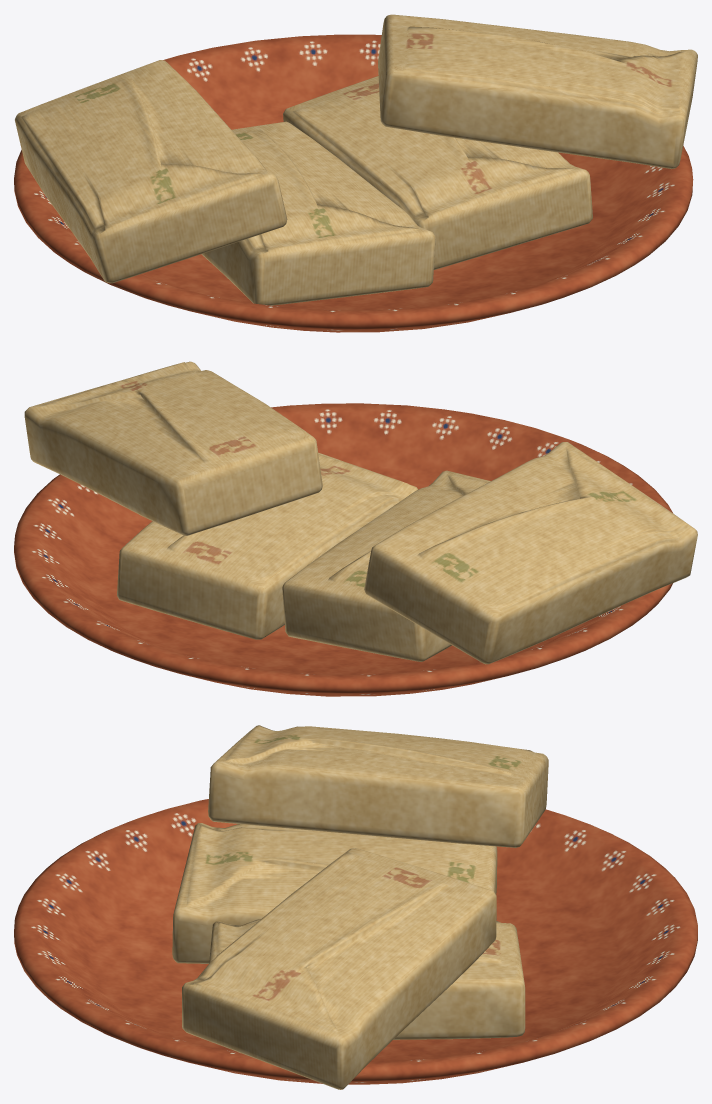
File: plato_tamales.gltf
3 renders of one model, top to bottom at view 1: azimuth 30°, elevation 25°; view 2: azimuth 150°, elevation 25°; view 3: azimuth 270°, elevation 25°, orthographic. The views are drawn at different scales.
Visible parts, largest first — view 1: plato, tamal_3, tamal_4, tamal_2, tamal_1; view 2: plato, tamal_3, tamal_4, tamal_2, tamal_1; view 3: plato, tamal_4, tamal_3, tamal_1, tamal_2.
Boxes of the visible parts, <box> form: plato: <box>14,34,693,332</box>; tamal_3: <box>15,60,287,283</box>; tamal_4: <box>378,14,697,168</box>; tamal_2: <box>283,76,592,269</box>; tamal_1: <box>201,121,435,305</box>; plato: <box>14,403,672,696</box>; tamal_3: <box>364,442,697,664</box>; tamal_4: <box>24,361,322,535</box>; tamal_2: <box>117,452,417,639</box>; tamal_1: <box>282,470,490,661</box>; plato: <box>14,799,697,1084</box>; tamal_4: <box>182,848,496,1089</box>; tamal_3: <box>208,725,548,847</box>; tamal_1: <box>172,823,497,963</box>; tamal_2: <box>209,919,525,1042</box>.
Bounding box in the file's own units: 0.3495 × 0.0854 × 0.32.
3 materials, 3 textured.
